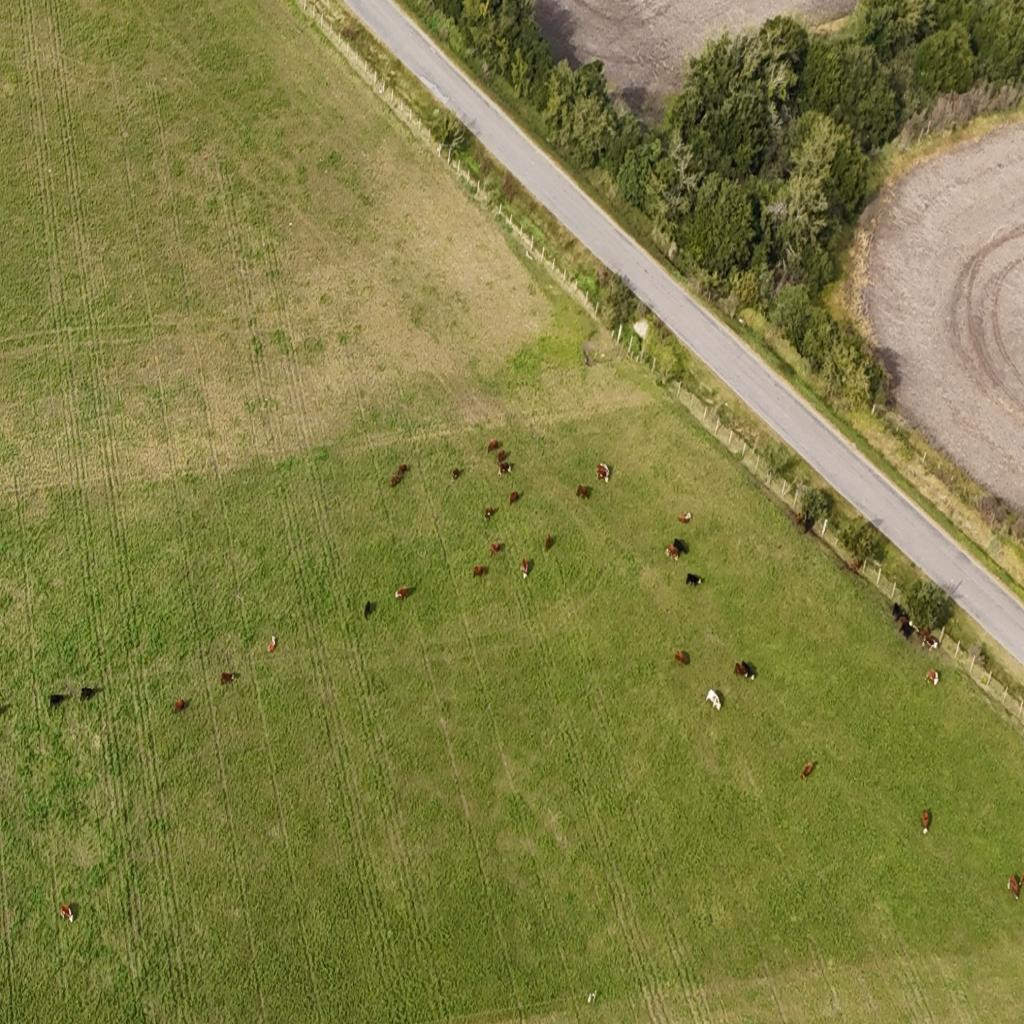cow: (1004, 868, 1022, 896), (596, 460, 612, 484), (674, 535, 690, 557), (800, 759, 815, 781), (920, 808, 932, 835), (732, 662, 748, 681), (49, 694, 68, 710), (899, 621, 914, 641), (80, 686, 100, 701), (60, 904, 75, 924), (849, 556, 864, 576), (922, 625, 936, 646), (891, 603, 907, 621), (664, 544, 678, 564), (496, 462, 513, 478), (925, 669, 940, 687), (742, 660, 755, 680), (709, 689, 722, 709), (686, 572, 702, 588), (674, 650, 689, 666), (395, 586, 412, 600), (221, 671, 238, 685), (576, 484, 590, 500), (472, 564, 488, 578), (520, 558, 529, 582), (804, 514, 814, 535), (267, 634, 277, 654), (398, 459, 409, 477), (364, 600, 375, 618), (678, 510, 692, 524), (490, 542, 504, 556), (496, 447, 508, 463), (487, 439, 500, 453), (173, 698, 186, 712), (390, 473, 401, 489), (509, 491, 521, 505), (484, 506, 496, 518), (544, 536, 552, 554), (452, 468, 461, 480)
